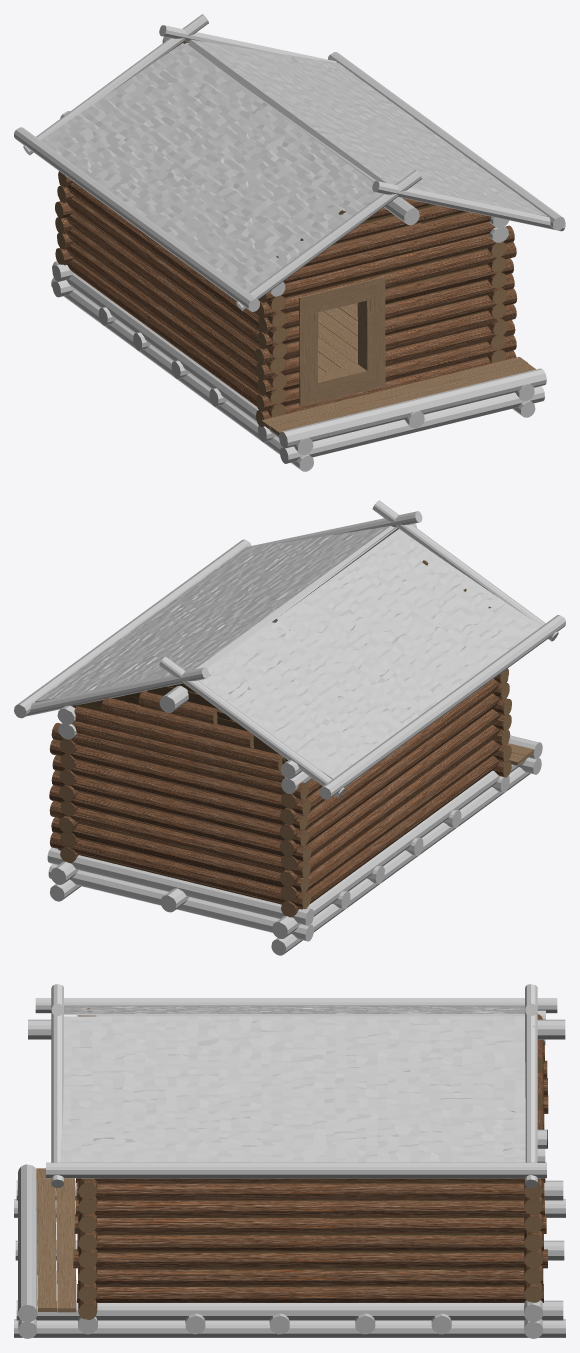
Rendered from banya_LOD2.fbx.
The picture shows the model from 3 angles, top to bottom: view 1: azimuth 30°, elevation 25°; view 2: azimuth 150°, elevation 25°; view 3: azimuth 270°, elevation 25°; orthographic projection. The views are drawn at different scales.
Parts seen in each view (by area): view 1: Куб.003, Куб.002, Цилиндр.003, Цилиндр.007, Цилиндр, Цилиндр.027, Цилиндр.069, Цилиндр.072, Цилиндр.055, Цилиндр.071, Цилиндр.070, Цилиндр.021 (+30 smaller); view 2: Куб.003, Куб.002, Цилиндр.007, Цилиндр.048, Цилиндр.044, Цилиндр.045, Цилиндр.006, Цилиндр.042, Цилиндр.046, Цилиндр.047, Цилиндр.043, Цилиндр.055 (+19 smaller); view 3: Куб.002, Цилиндр.066, Цилиндр.005, Цилиндр.002, Цилиндр.051, Цилиндр.054, Цилиндр.067, Цилиндр.050, Цилиндр.020, Цилиндр.053, Цилиндр.052, Куб.003 (+18 smaller).
Part boxes in pixels (x1,y1,x2,y2): Куб.003: [40, 43, 382, 292]; Куб.002: [188, 39, 547, 216]; Цилиндр.003: [279, 368, 546, 448]; Цилиндр.007: [14, 127, 259, 311]; Цилиндр: [280, 386, 544, 463]; Цилиндр.027: [260, 225, 514, 302]; Цилиндр.069: [66, 242, 286, 404]; Цилиндр.072: [67, 196, 287, 358]; Цилиндр.055: [52, 260, 313, 455]; Цилиндр.071: [66, 211, 285, 373]; Цилиндр.070: [67, 227, 286, 389]; Цилиндр.021: [67, 258, 285, 417]; Куб.003: [199, 528, 541, 779]; Куб.002: [35, 526, 394, 702]; Цилиндр.007: [319, 615, 565, 799]; Цилиндр.048: [49, 739, 310, 815]; Цилиндр.044: [49, 801, 310, 877]; Цилиндр.045: [49, 785, 311, 862]; Цилиндр.006: [47, 847, 313, 925]; Цилиндр.042: [49, 832, 310, 908]; Цилиндр.046: [51, 770, 308, 846]; Цилиндр.047: [52, 755, 308, 830]; Цилиндр.043: [51, 817, 309, 893]; Цилиндр.055: [272, 758, 527, 938]; Куб.002: [60, 1016, 525, 1162]; Цилиндр.066: [46, 1162, 546, 1178]; Цилиндр.005: [16, 1300, 563, 1320]; Цилиндр.002: [14, 1319, 565, 1337]; Цилиндр.051: [73, 1249, 547, 1268]; Цилиндр.054: [76, 1197, 544, 1216]; Цилиндр.067: [76, 1182, 544, 1199]; Цилиндр.050: [78, 1268, 543, 1285]; Цилиндр.020: [77, 1284, 543, 1302]; Цилиндр.053: [74, 1215, 546, 1233]; Цилиндр.052: [77, 1234, 543, 1250]; Куб.003: [64, 1005, 524, 1016].
Bounding box in the file's own units: 4417 × 3294 × 5811.
